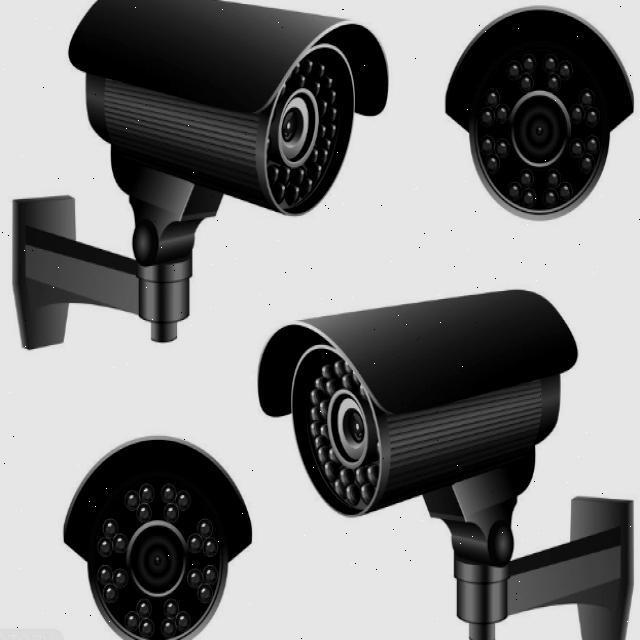cctv: (69, 11, 394, 218), (237, 307, 518, 494), (53, 413, 263, 640), (417, 7, 611, 234)
